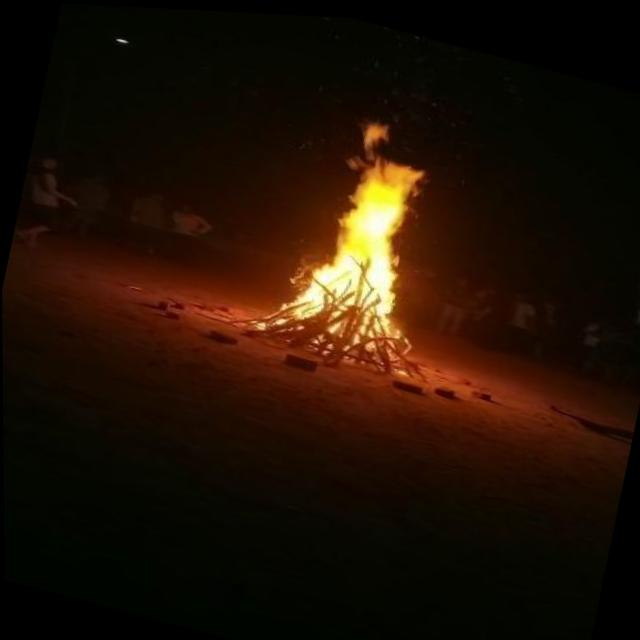fire: (258, 85, 475, 370)
